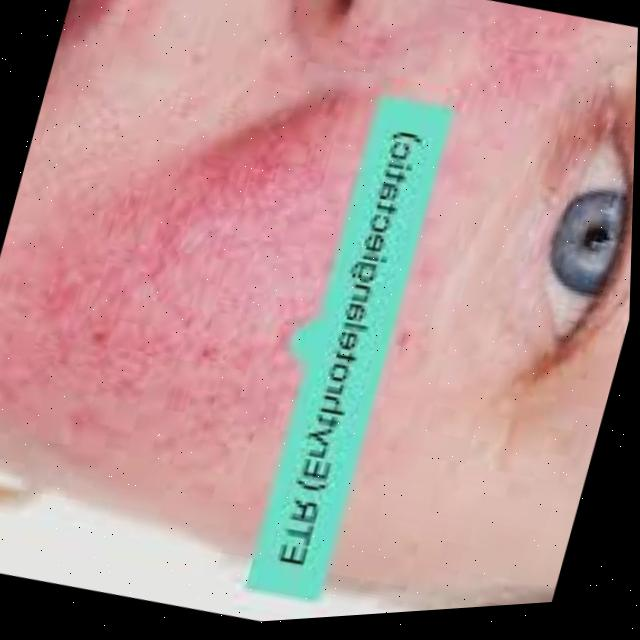Rosacea: (0, 79, 338, 502)
